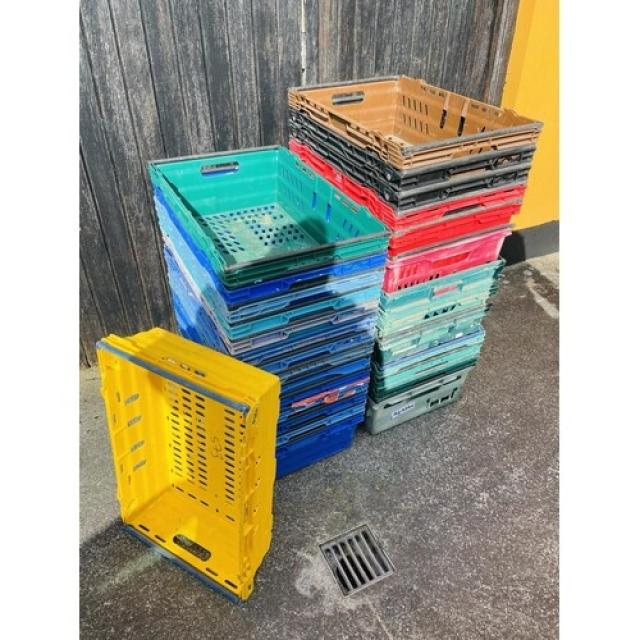basket: (114, 87, 462, 491), (83, 325, 283, 604), (277, 43, 544, 204), (278, 108, 536, 230), (278, 140, 527, 254), (366, 255, 517, 340), (359, 317, 495, 404), (376, 223, 520, 295), (357, 357, 485, 437), (369, 301, 494, 368), (267, 412, 374, 480)
